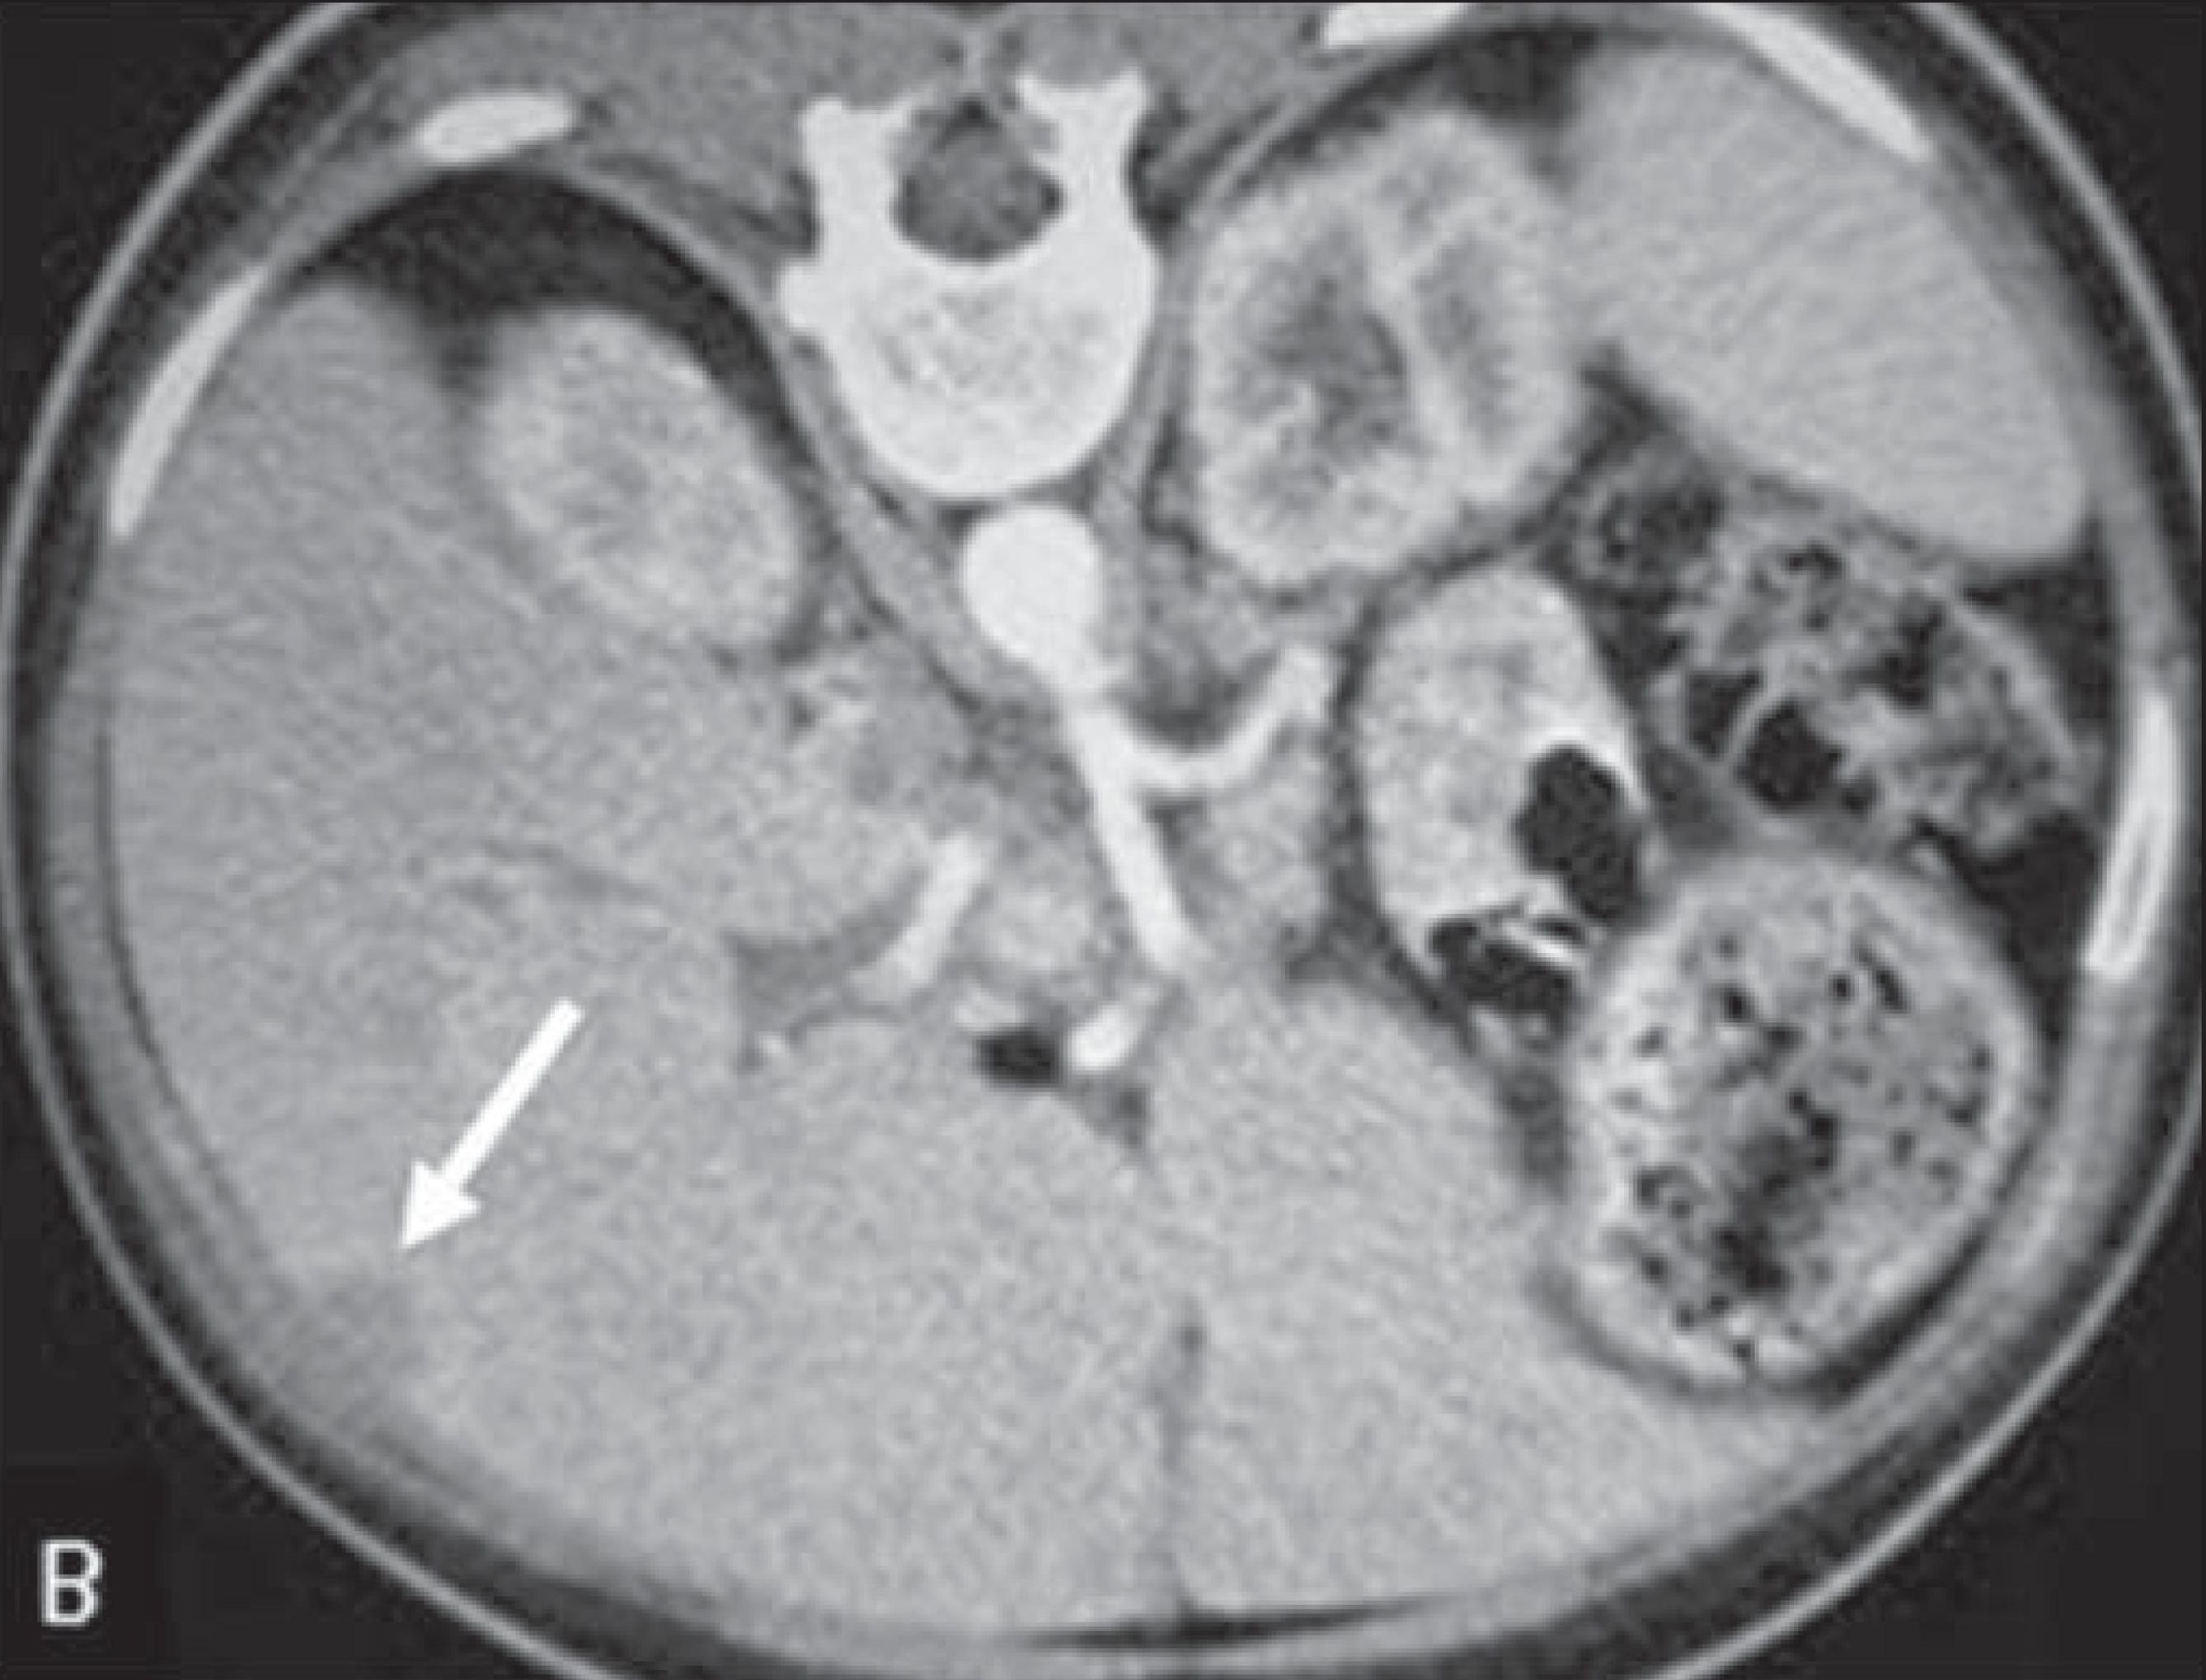anomaly: (215, 1232, 492, 1500)
